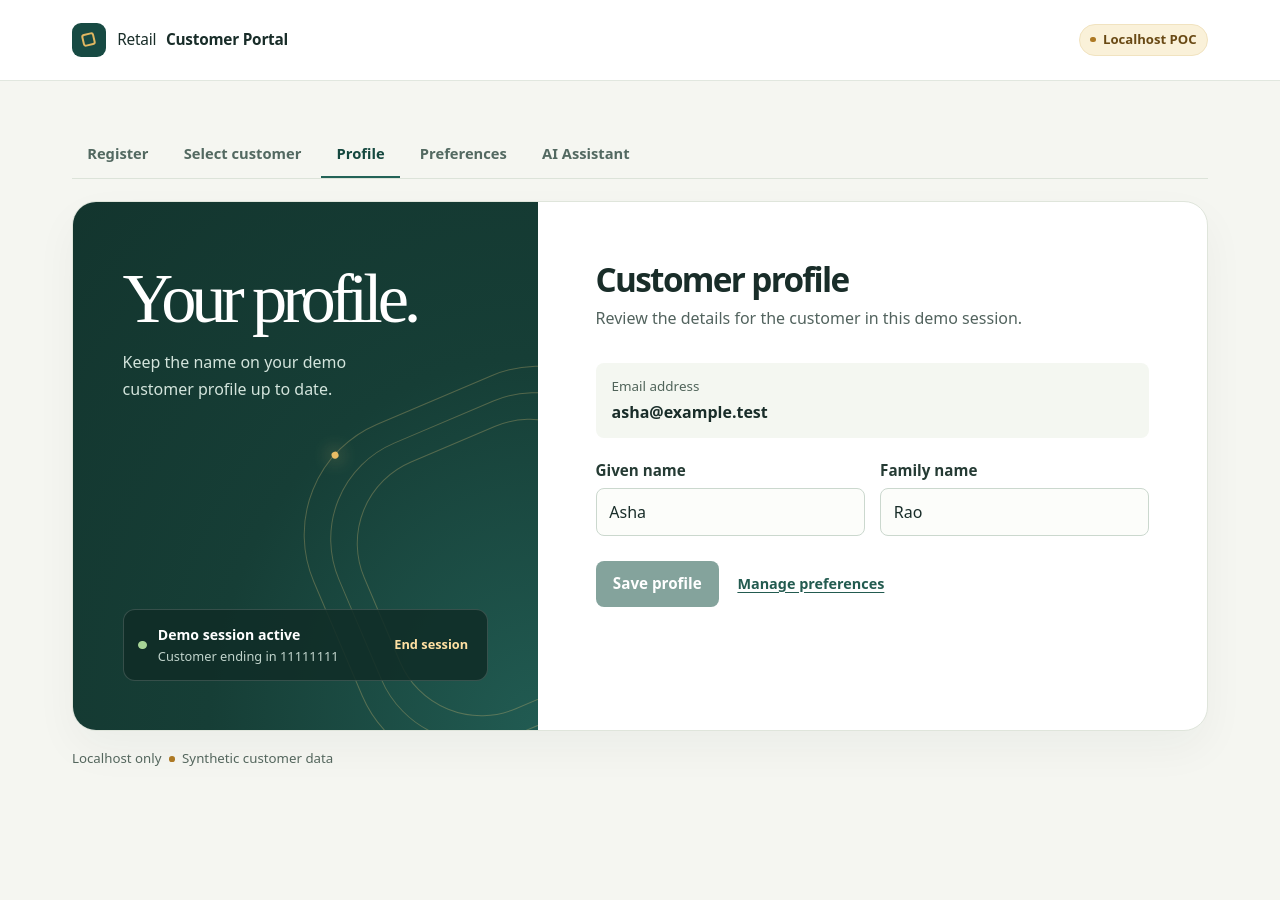
Test: clears the previous customer cache and form on switching or ending
Type " Unsaved" into the field labelled "Given name".
click(730, 512); type(" Unsaved")  # box x1=596 y1=488 x2=865 y2=536
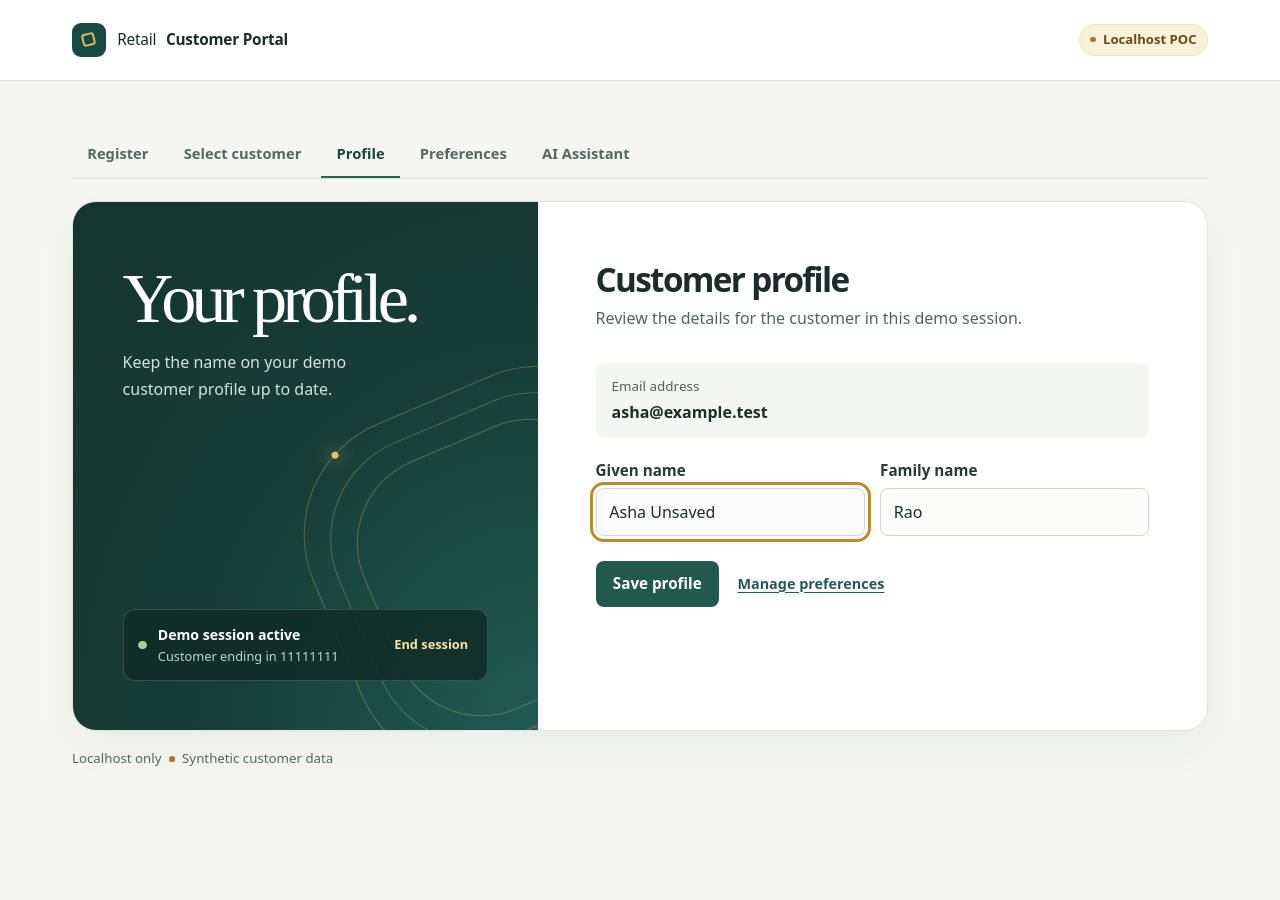
Click the link "Select customer".
click(243, 153)  # box x1=184 y1=143 x2=301 y2=163
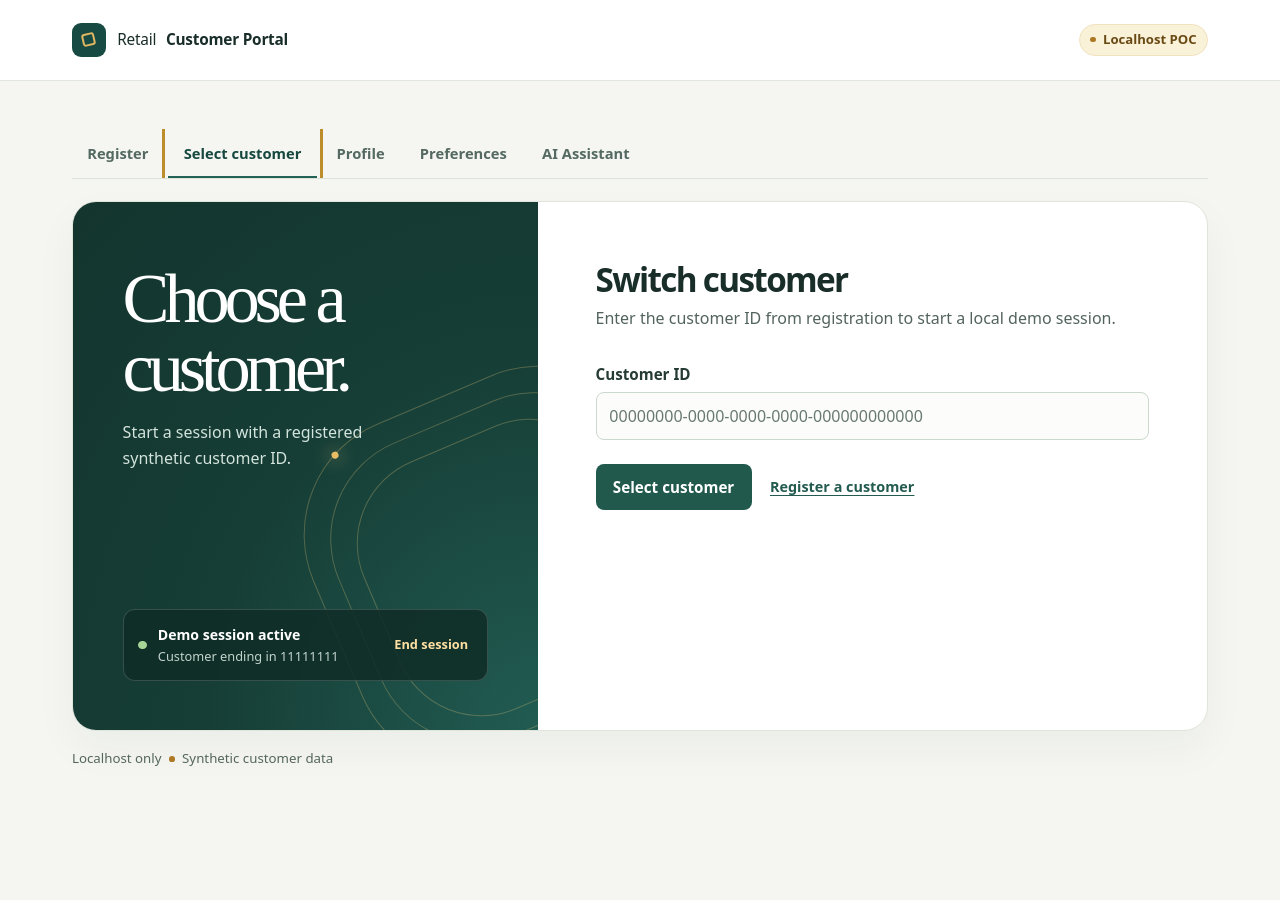
Type "22222222-2222-4222-8222-222222222222" into the field labelled "Customer ID".
click(872, 416); type("22222222-2222-4222-8222-222222222222")  # box x1=596 y1=392 x2=1149 y2=440
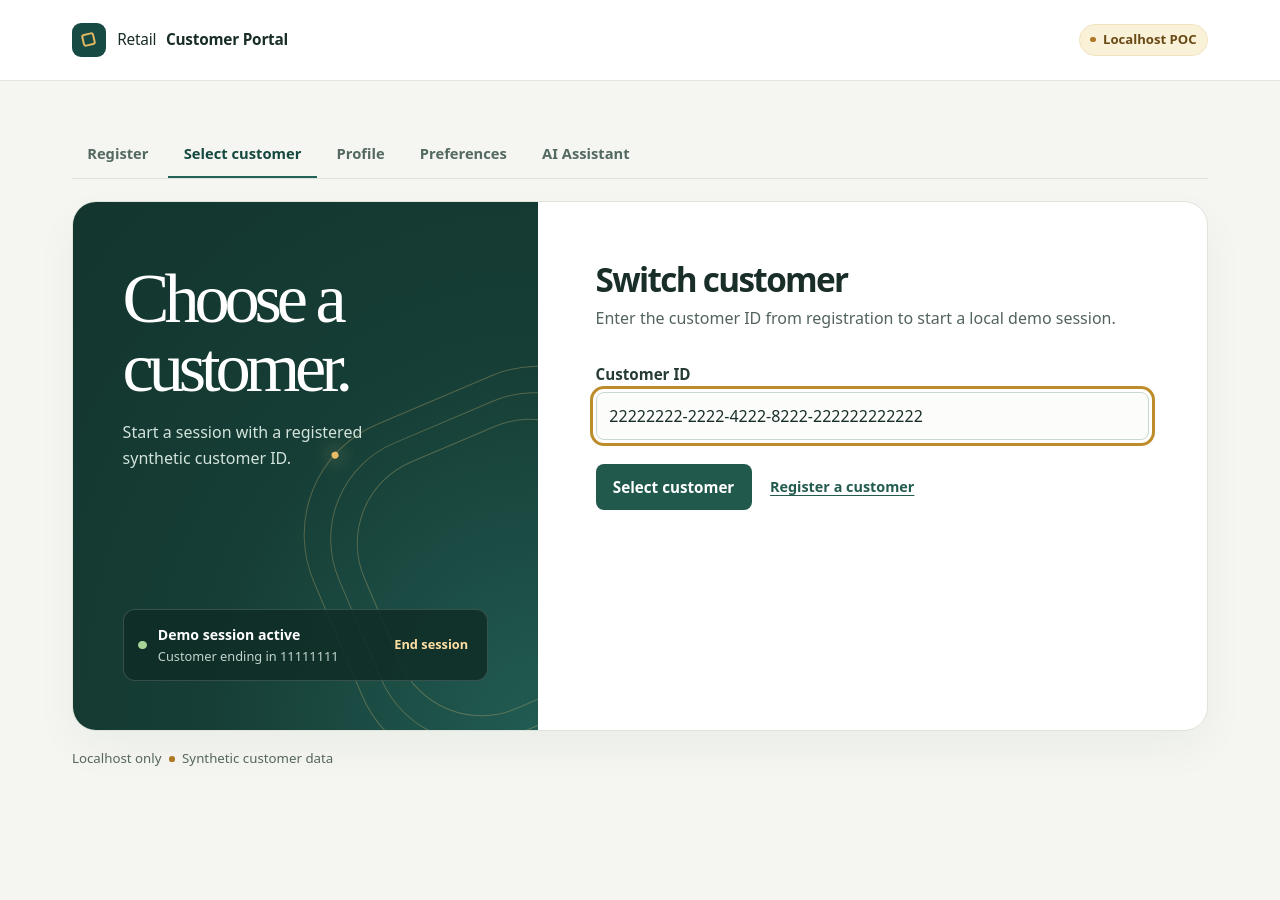
Click the button "Select customer".
click(674, 487)  # box x1=596 y1=464 x2=752 y2=510
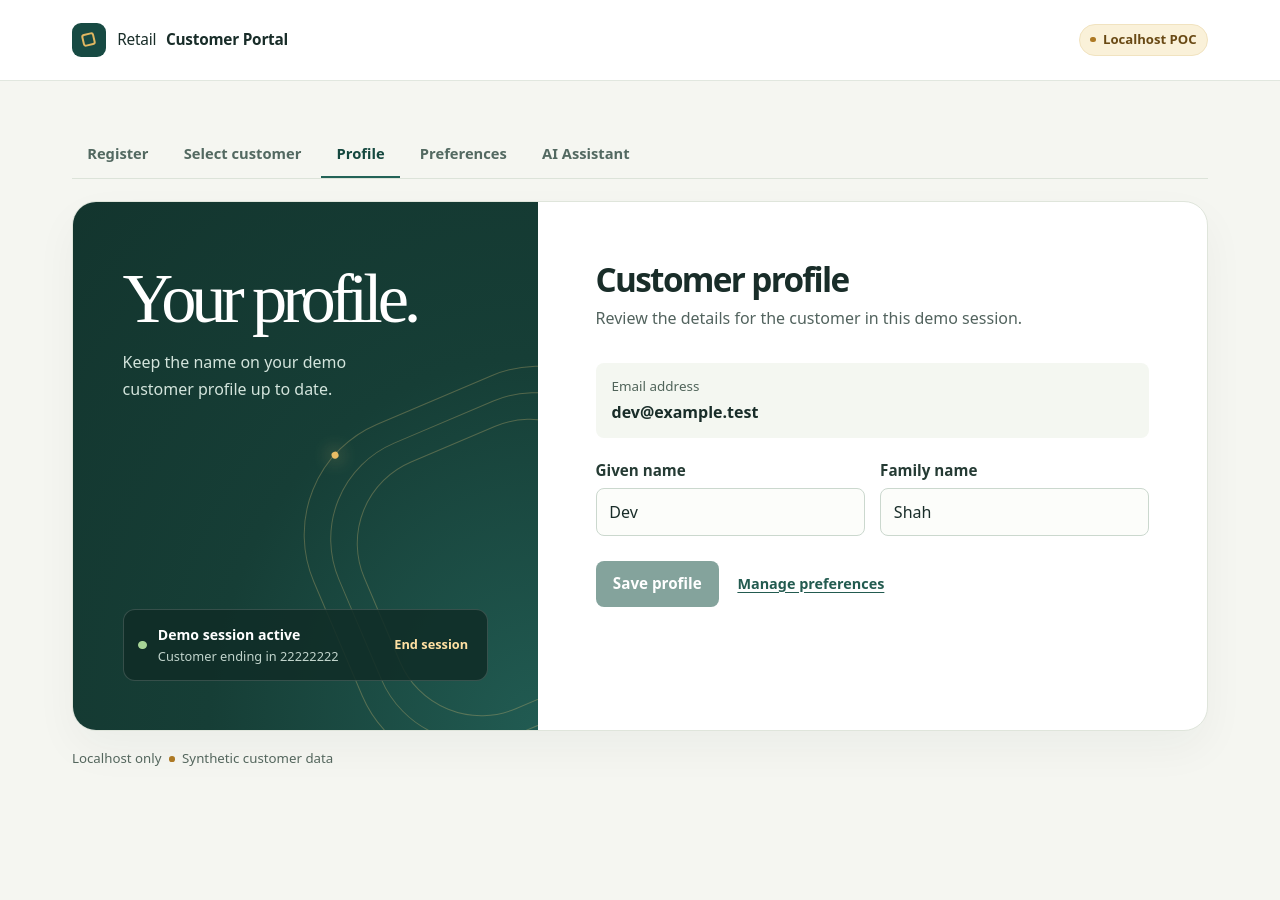
Expected: the text "dev@example.test" is shown, x1=612 y1=401 x2=758 y2=423
Expected: the field labelled "Given name" holds "Dev", x1=596 y1=488 x2=865 y2=536
Click the button "End session".
click(431, 645)  # box x1=390 y1=631 x2=473 y2=659
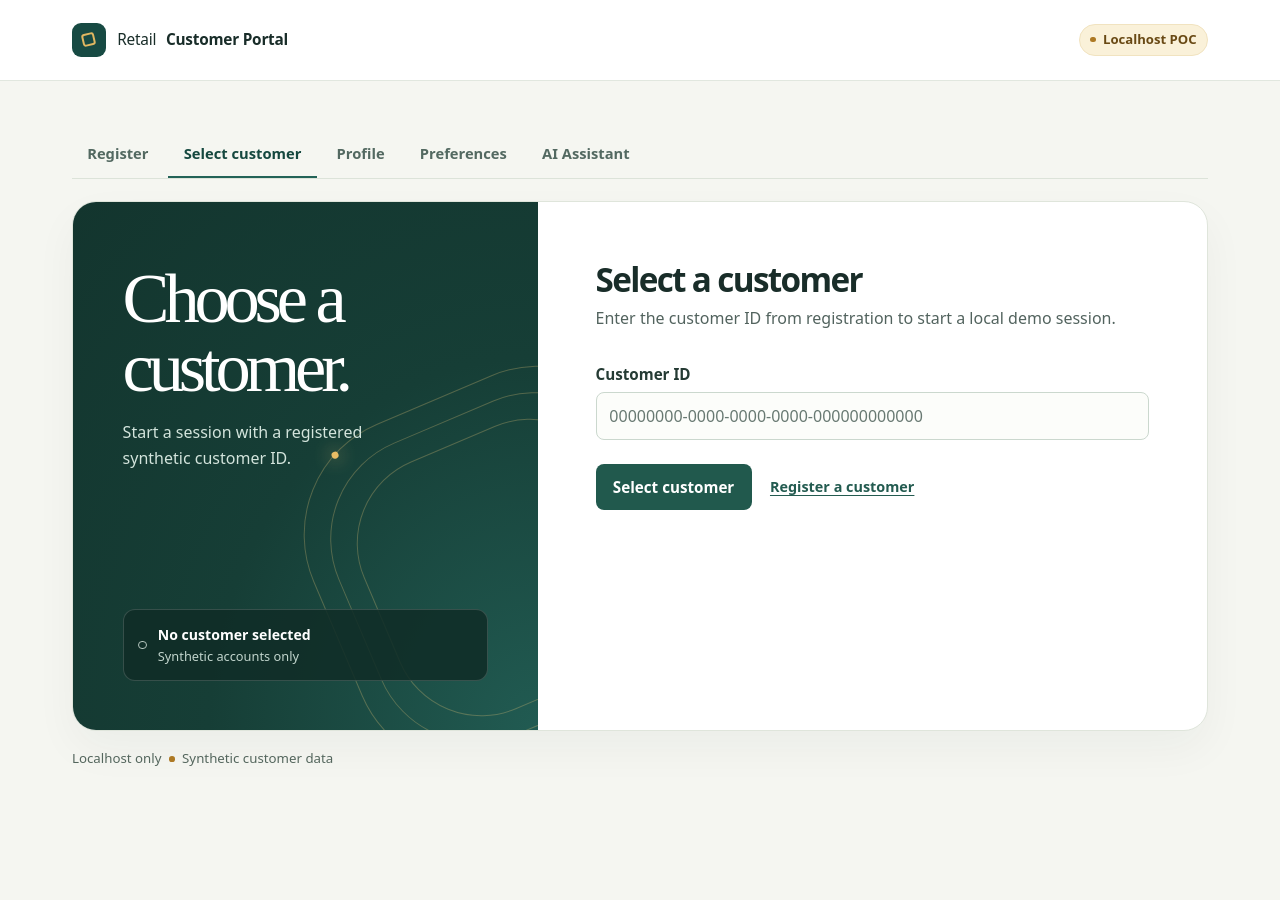
Expected: the text "No customer selected" is shown, x1=158 y1=624 x2=311 y2=645
Click the link "Profile".
click(361, 153)  # box x1=336 y1=143 x2=385 y2=163
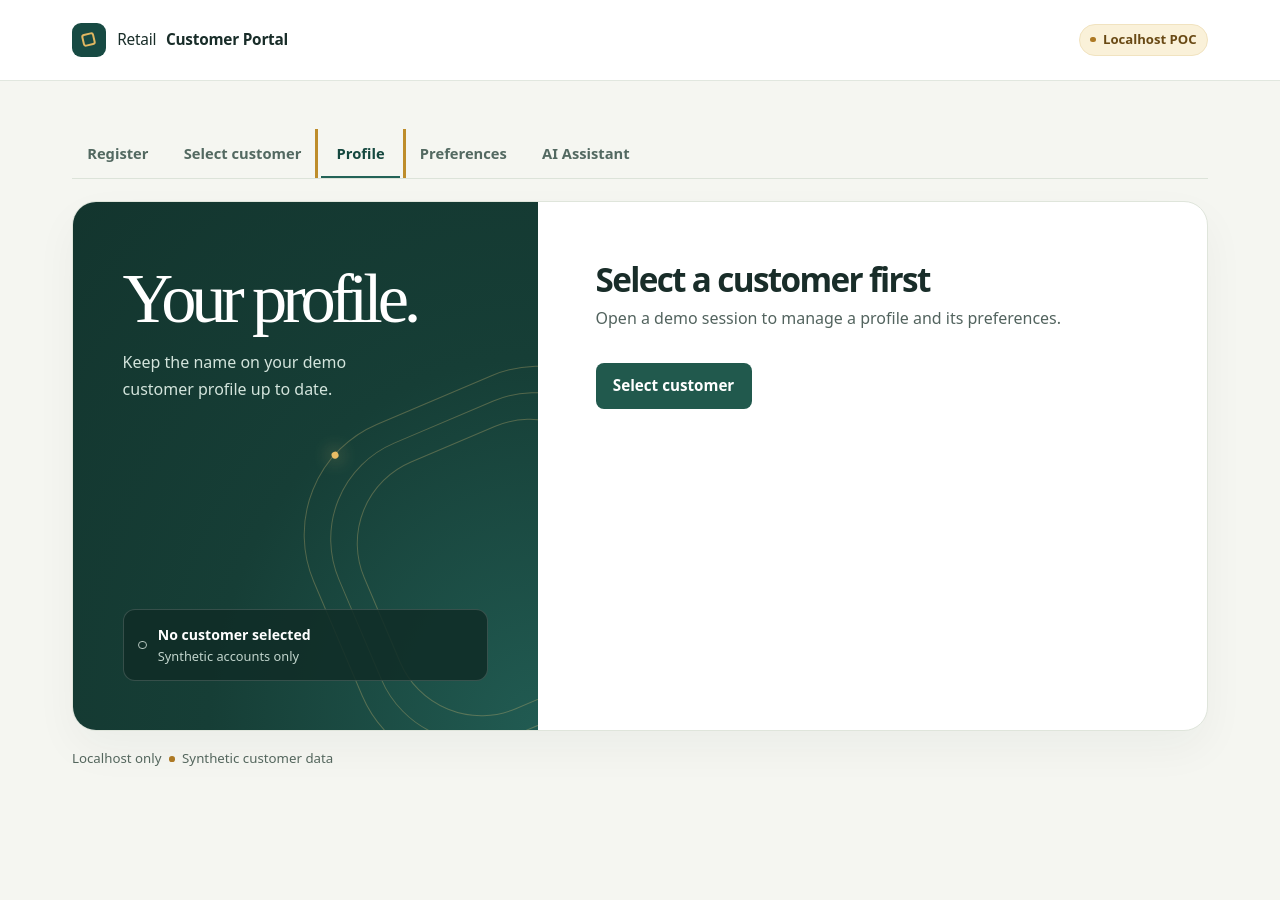
Expected: the heading "Select a customer first" is shown, x1=596 y1=256 x2=930 y2=302
